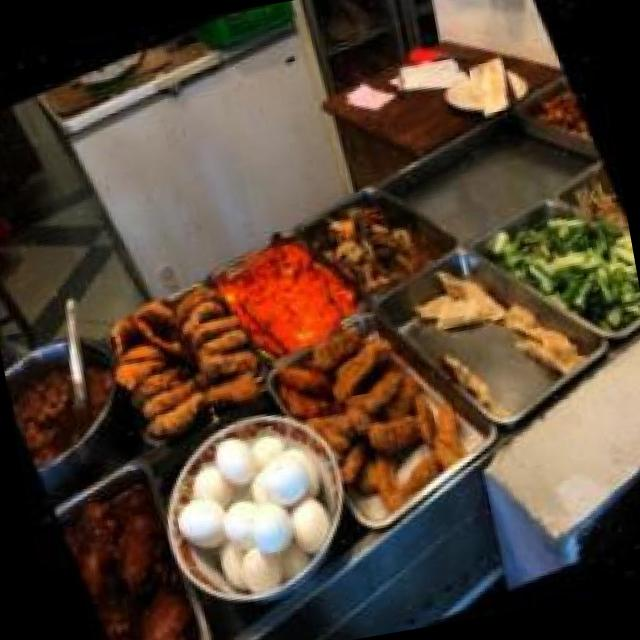carrot_eggs: (218, 230, 345, 368)
fried_dumplings: (412, 254, 507, 345)
fried_eggs: (459, 52, 524, 116)
mung_bean_sprouts: (570, 174, 622, 227)
